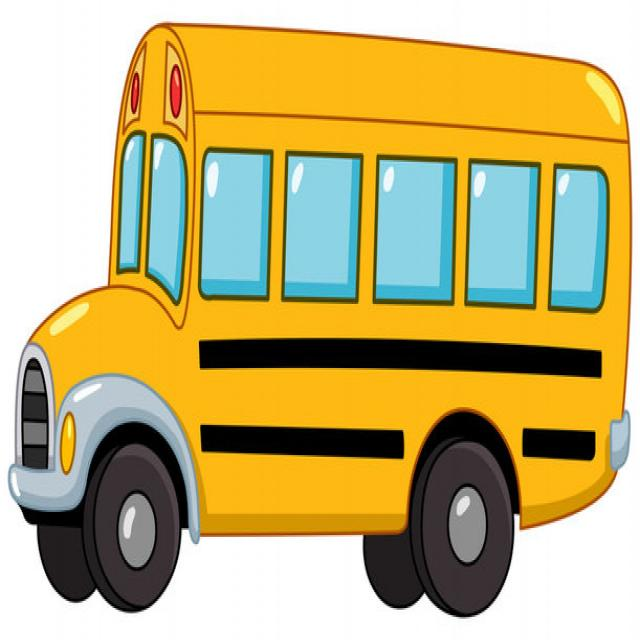bus: (2, 8, 629, 621)
